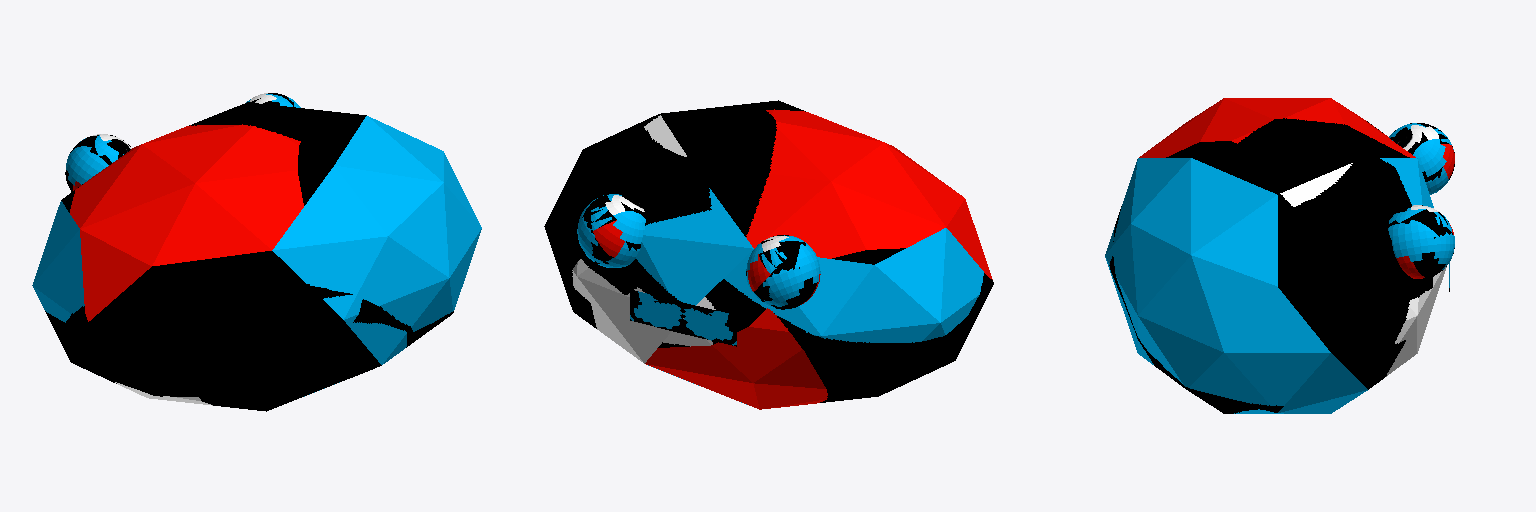
3 views of the same model, side by side, from view 1: azimuth 30°, elevation 25°; view 2: azimuth 150°, elevation 25°; view 3: azimuth 270°, elevation 25° (orthographic).
Parts seen in each view (by area): view 1: ICO球, 球.002_球; view 2: ICO球, 球.002_球, 平面; view 3: ICO球, 球.002_球.
Part boxes in pixels (bbox=[...]): ICO球: bbox=[32, 102, 481, 411]; 球.002_球: bbox=[65, 93, 300, 191]; ICO球: bbox=[544, 100, 993, 409]; 球.002_球: bbox=[577, 194, 820, 309]; 平面: bbox=[630, 289, 736, 346]; ICO球: bbox=[1105, 98, 1446, 413]; 球.002_球: bbox=[1388, 123, 1454, 279].
Bounding box in the file's own units: 2.02 × 1.31 × 1.55.
Materials: 3 (1 with a texture image).